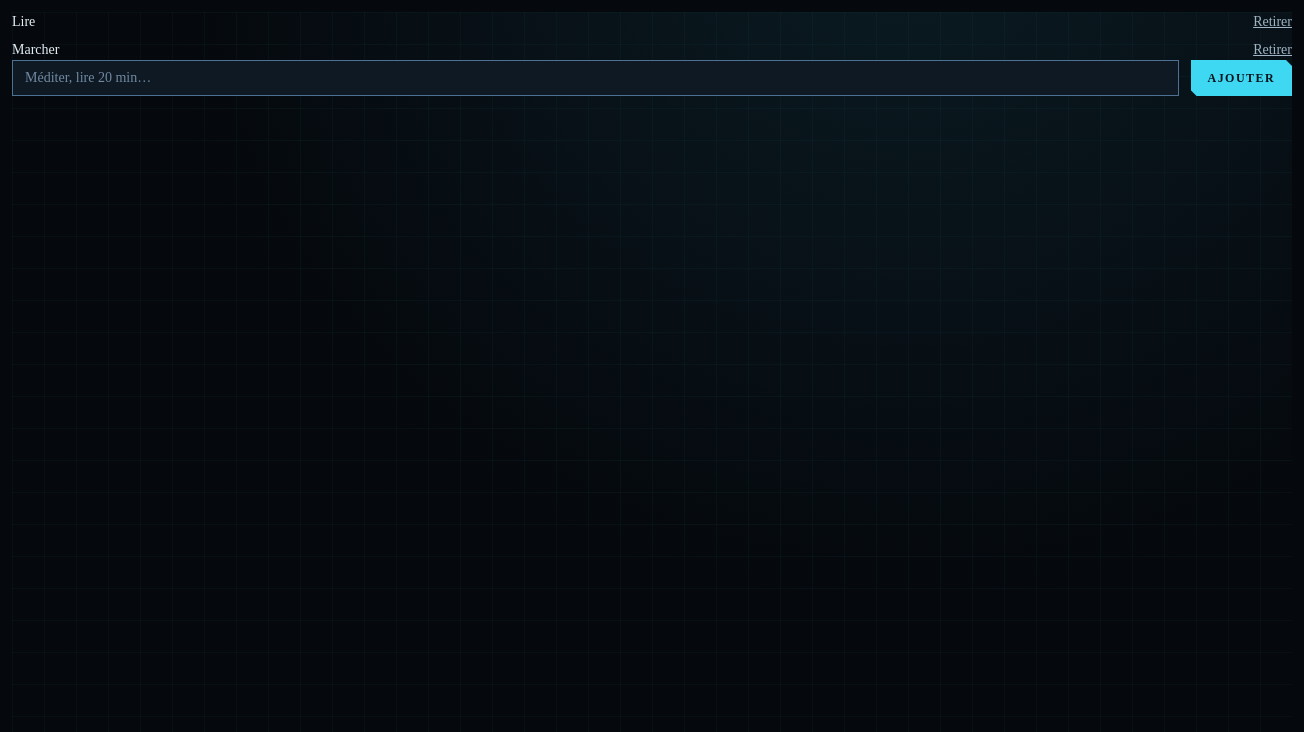
Test case: HabitsForms › garde le nom saisi et affiche l’erreur quand l’ajout échoue
Step 1. Type "Lire" into the field named "Nouvelle habitude" → coordinates (595, 78), box [12,60,1179,96]
Then press Enter
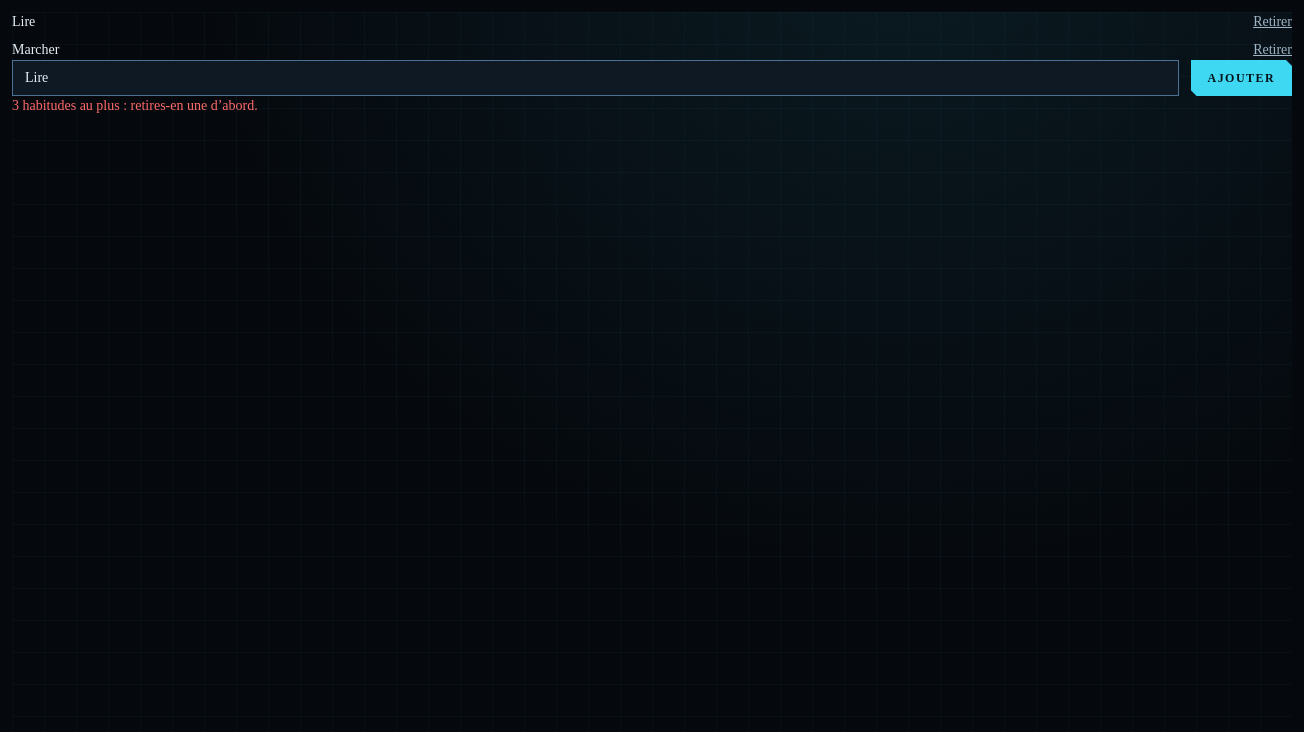
Expected: the field named "Nouvelle habitude" holds "Lire", [12,60,1179,96]
